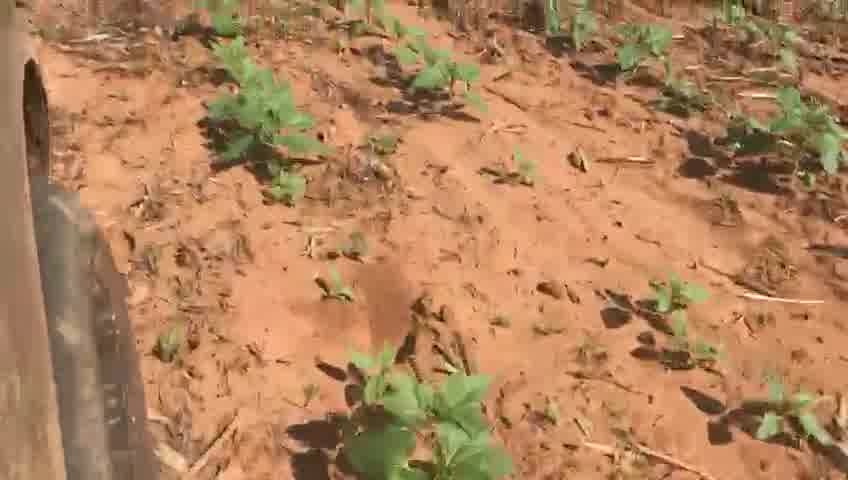sunflower: (320, 343, 519, 478), (211, 86, 317, 159), (244, 121, 338, 203), (747, 378, 830, 461), (765, 87, 841, 171), (640, 272, 712, 346), (409, 56, 488, 115), (212, 38, 279, 94), (611, 21, 681, 68), (386, 30, 452, 79)
